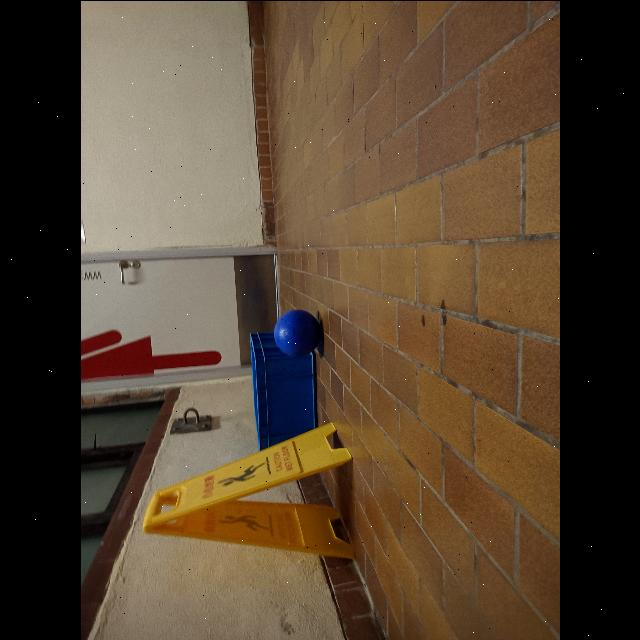B: (270, 309, 324, 355)
